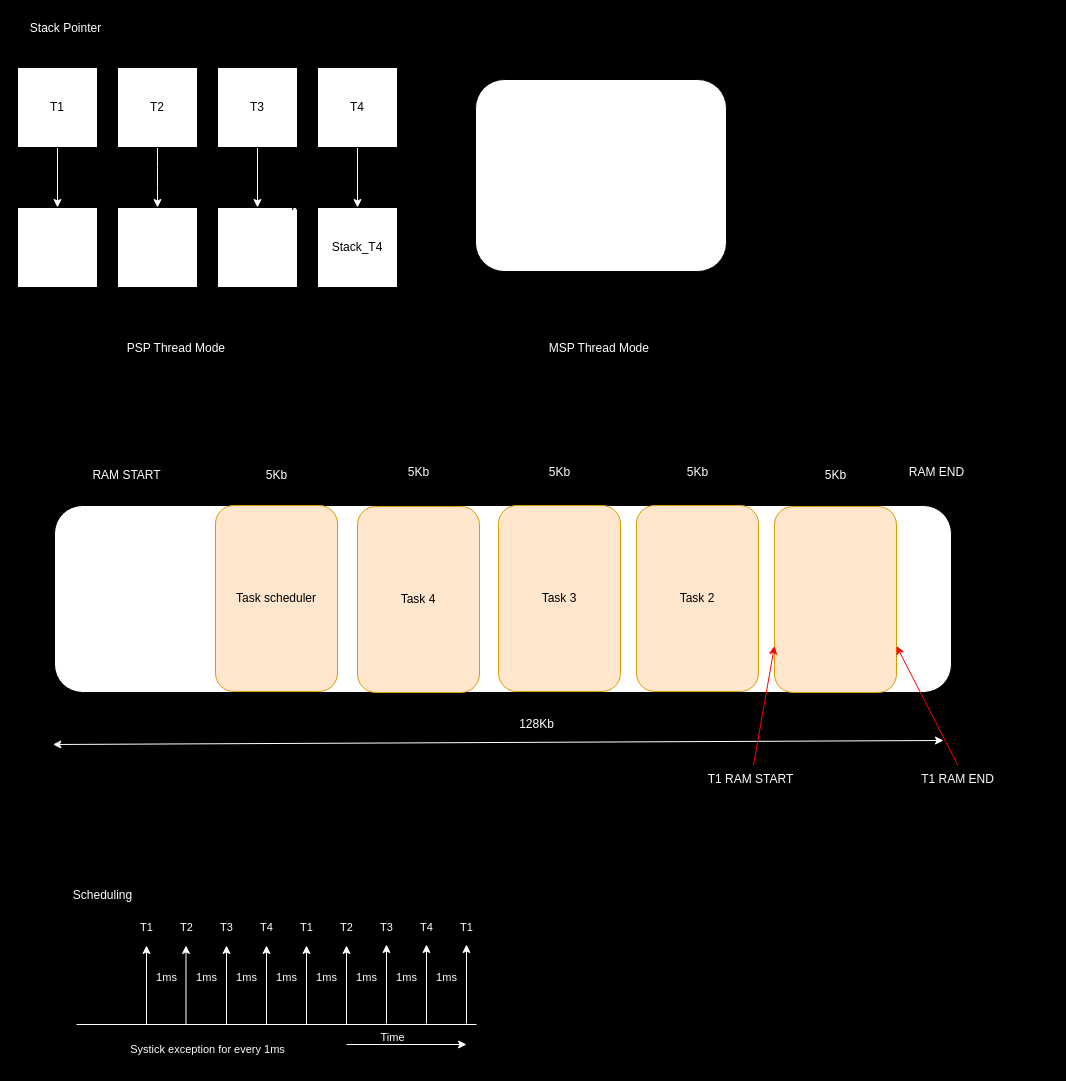
This 1066x1081 diagram has some shape labels left out. Here are the shapes that lost their labels. From the top down, the box of each, then its label:
(474, 78, 726, 272): Scheduler
(16, 206, 98, 288): Stack_T1
(116, 206, 198, 288): Stack_T2
(216, 206, 298, 288): Stack_T3
(774, 506, 896, 692): Task 1
